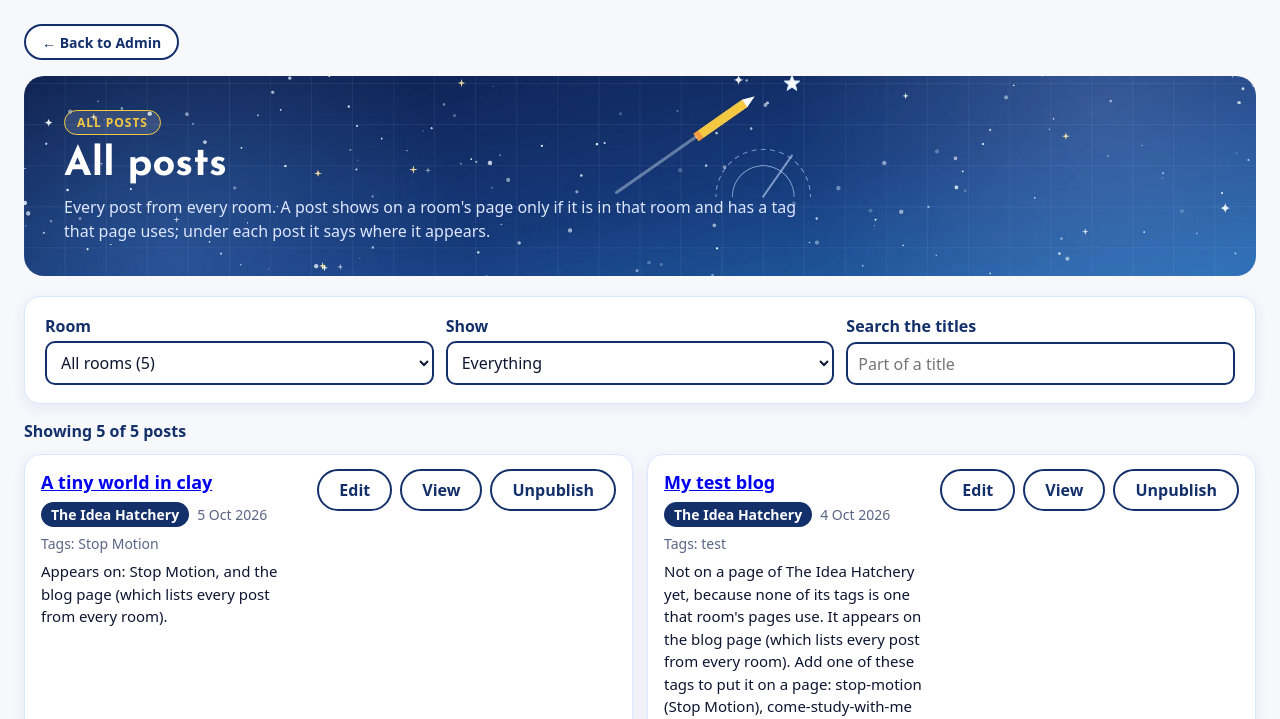
Test case: the list › says how many it is showing, out of how many it has: all 5 to begin with, 4 when you choose published only
This screenshot has width=1280, height=719.
Expected: the message reads "Showing 5 of 5 posts", x1=24 y1=420 x2=186 y2=442
Select "Published posts" in the dropdown labelled "Show". click: (640, 363)
box: x1=446 y1=341 x2=834 y2=385
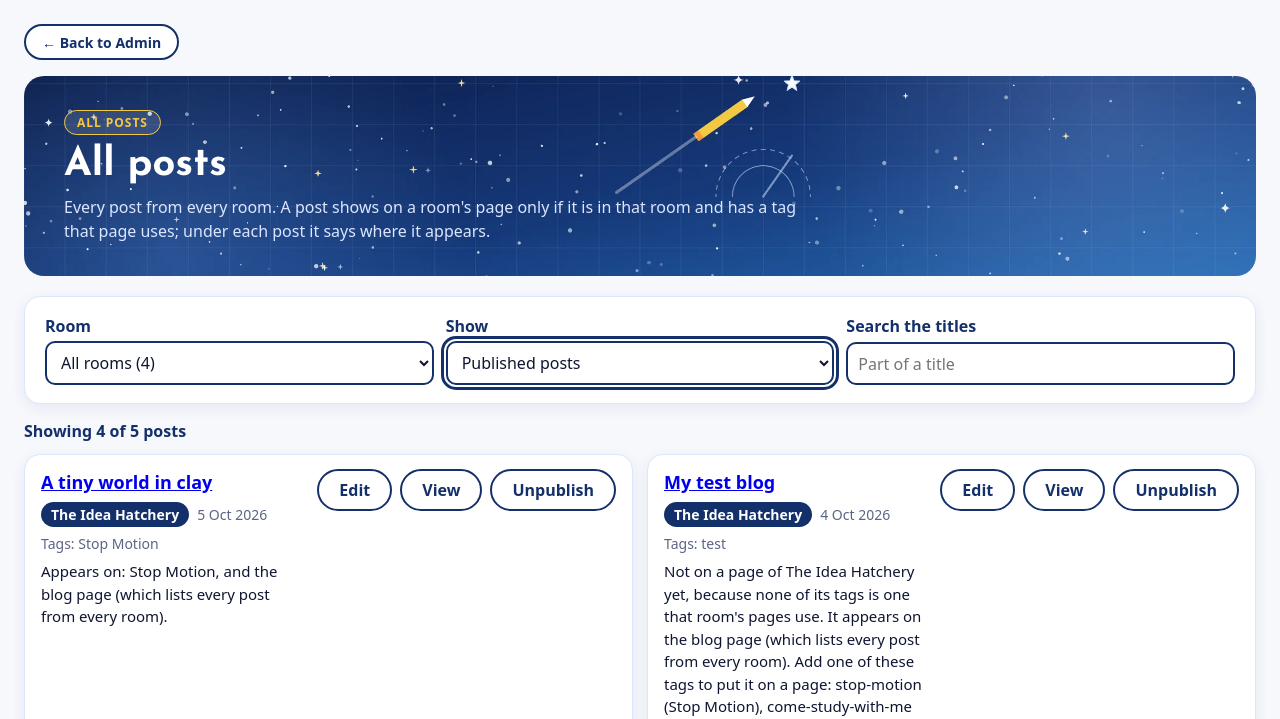
Expected: the message reads "Showing 4 of 5 posts", x1=24 y1=420 x2=186 y2=442
